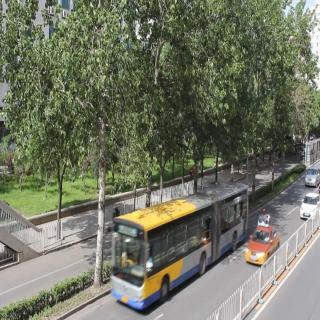BigCar: (113, 183, 248, 309)
Car: (244, 226, 282, 261), (301, 192, 319, 222), (305, 163, 319, 189)
